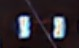COMP: (13, 12, 70, 42)
STAN: (29, 1, 54, 48), (32, 15, 53, 38), (38, 18, 48, 37), (25, 1, 36, 15), (47, 38, 57, 48)
